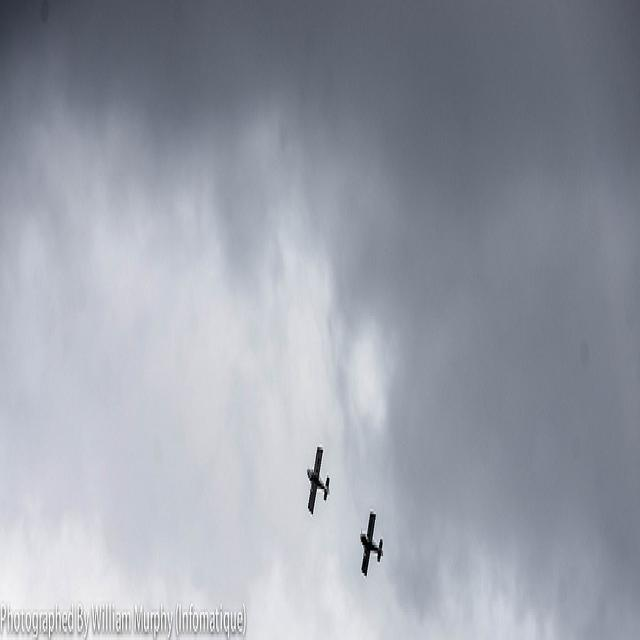airplane: (307, 446, 330, 516), (361, 511, 383, 573)
